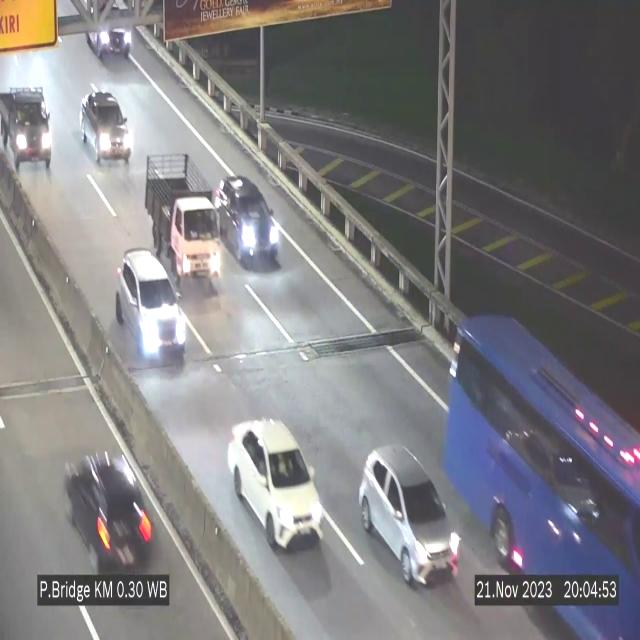Bus: (449, 313, 640, 640)
Car: (62, 428, 162, 591), (358, 446, 459, 585), (228, 418, 323, 548), (116, 251, 187, 362), (220, 171, 282, 285), (77, 88, 136, 169), (79, 2, 134, 68)
Truck: (148, 150, 224, 295), (0, 76, 54, 174)
